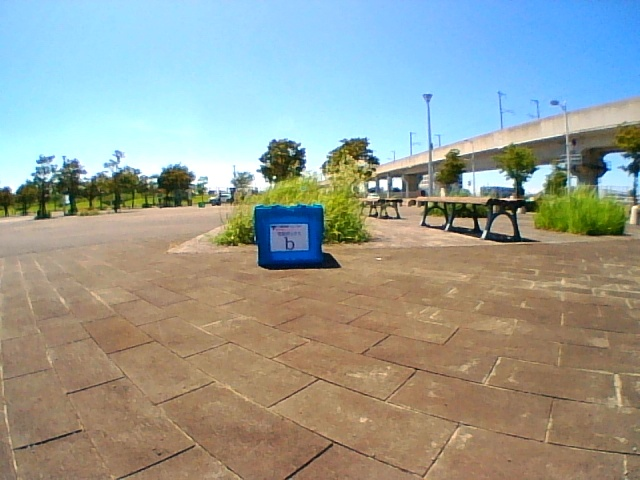blue_box: (258, 207, 320, 261)
tag_b: (271, 225, 308, 251)
